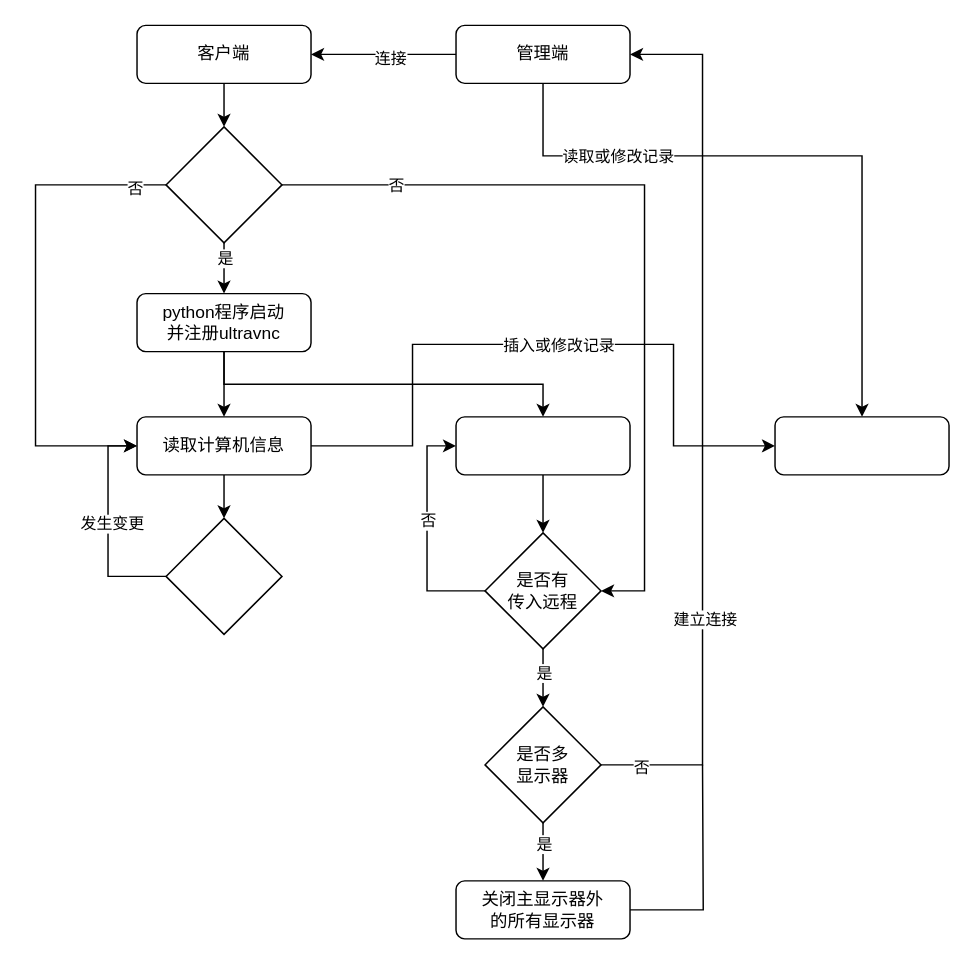
The diagram is 974 pixels wide and 964 high, and some of its shapes have lost their labels. The centre of each missing label's shape, as x and y in pixels:
python监听 vnc端口: (542,445)
开机、IP 用户变更: (223,575)
数据库: (861,445)
是否首次 启动: (223,184)
